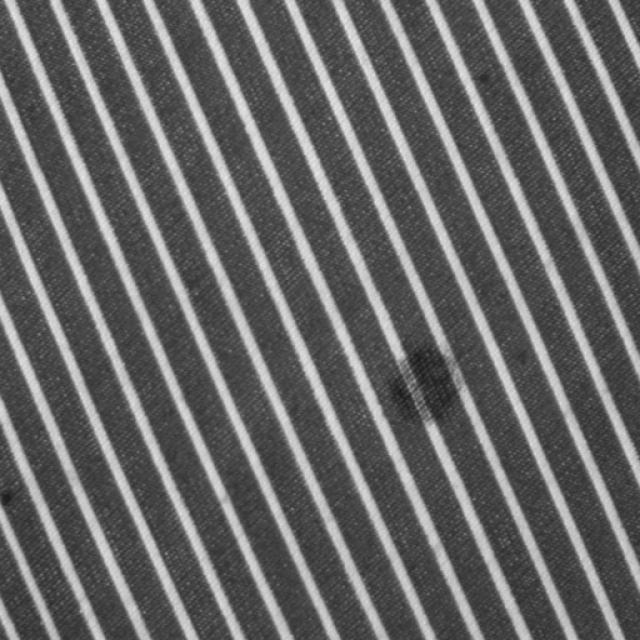Stain-Defect: (390, 346, 460, 421)
